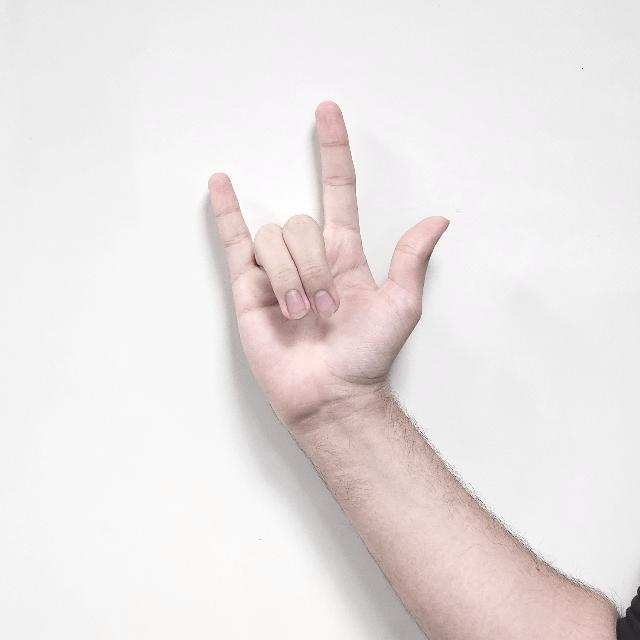Cima: (206, 90, 449, 432)
